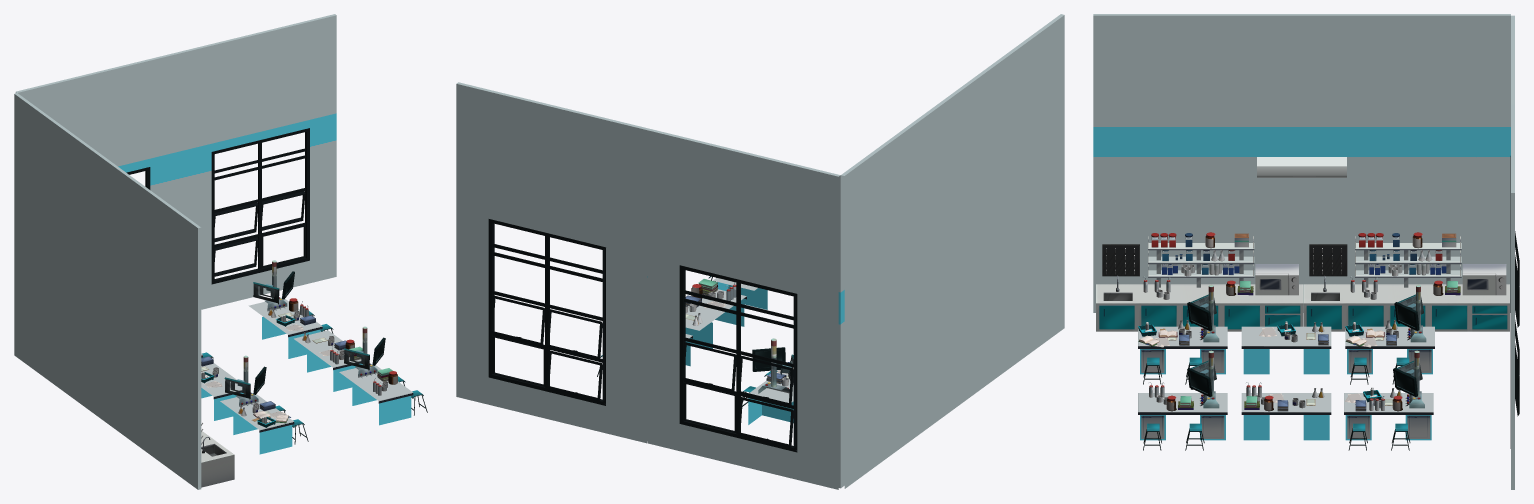
File: science_test.fbx
The picture shows the model from 3 angles, left to right: view 1: azimuth 30°, elevation 25°; view 2: azimuth 150°, elevation 25°; view 3: azimuth 270°, elevation 25°; orthographic projection. The views are drawn at different scales.
Parts seen in each view (by area): view 1: wall_002, wall_001, wall_004, wall_003, table3, table, table6, table4, back_case, pc_prop1, pc_prop2, table5 (+3 smaller); view 2: wall_003, wall_002, wall_004, wall_001, table6, pc_prop, tables_AC, table3; view 3: wall_001, wall_004, back_case, tables_AC, bottle_glass, bottle_glass1, table5, table6, pc_prop3, pc_prop2, pc_prop1, pc_prop (+13 smaller).
Part boxes in pixels (bbox=[...]): wall_002: bbox=[175, 14, 336, 309]; wall_001: bbox=[106, 160, 201, 489]; wall_004: bbox=[14, 93, 108, 422]; wall_003: bbox=[15, 53, 176, 209]; table3: bbox=[339, 364, 413, 425]; table: bbox=[220, 393, 294, 454]; table6: bbox=[294, 330, 362, 391]; table4: bbox=[248, 297, 322, 358]; back_case: bbox=[201, 422, 234, 487]; pc_prop1: bbox=[224, 355, 308, 444]; pc_prop2: bbox=[343, 326, 427, 415]; table5: bbox=[201, 363, 243, 420]; wall_003: bbox=[647, 128, 840, 489]; wall_002: bbox=[456, 82, 648, 443]; wall_004: bbox=[840, 94, 954, 488]; wall_001: bbox=[951, 14, 1064, 408]; table6: bbox=[685, 289, 746, 348]; pc_prop: bbox=[742, 338, 793, 406]; tables_AC: bbox=[746, 373, 793, 424]; table3: bbox=[713, 278, 767, 309]; wall_001: bbox=[1093, 14, 1301, 312]; wall_004: bbox=[1302, 14, 1510, 312]; back_case: bbox=[1096, 157, 1346, 331]; tables_AC: bbox=[1303, 236, 1509, 374]; bottle_glass: bbox=[1306, 232, 1507, 329]; bottle_glass1: bbox=[1099, 232, 1300, 329]; table5: bbox=[1241, 326, 1331, 374]; table6: bbox=[1241, 393, 1331, 440]; pc_prop3: bbox=[1347, 350, 1430, 450]; pc_prop2: bbox=[1141, 350, 1224, 450]; pc_prop1: bbox=[1141, 284, 1224, 384]; pc_prop: bbox=[1348, 284, 1431, 384].
Size of what is drawn, in the model's own units: 45.06 by 34.97 by 45.44.
